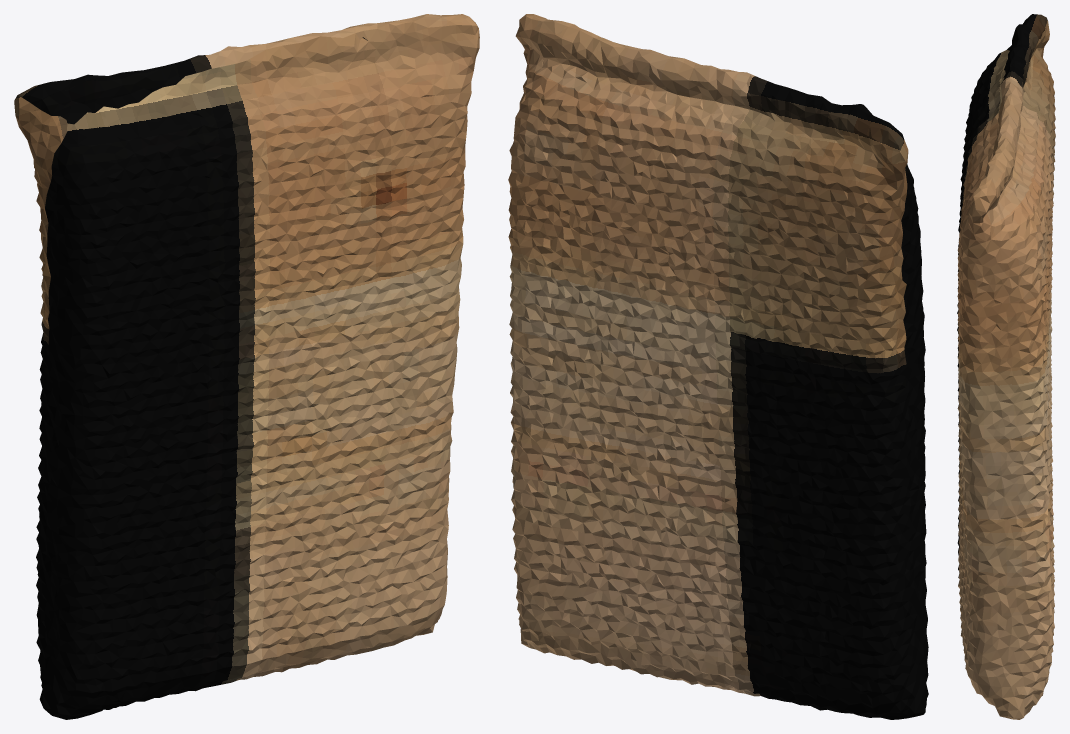
The picture shows the model from 3 angles, left to right: view 1: azimuth 30°, elevation 25°; view 2: azimuth 150°, elevation 25°; view 3: azimuth 270°, elevation 25°; orthographic projection. The views are drawn at different scales.
Bounding box in the file's own units: 0.0793 × 0.1121 × 0.0182.
